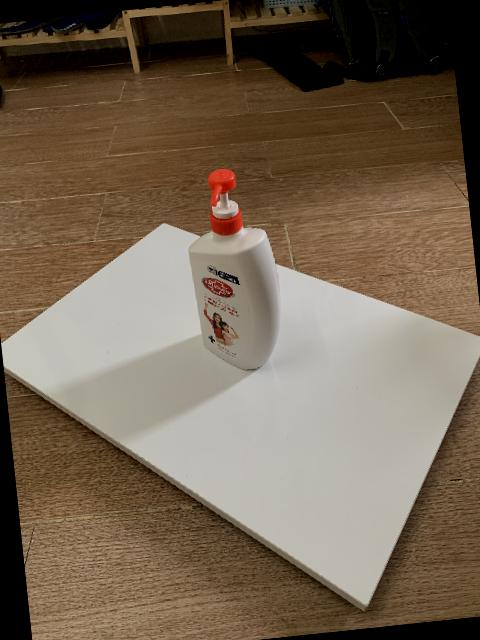life-buoy: (188, 169, 282, 370)
